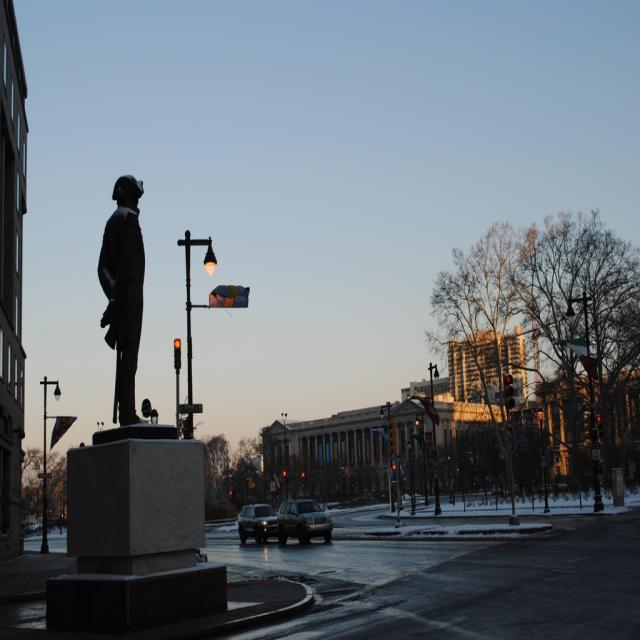traffic light: (504, 375, 514, 408)
